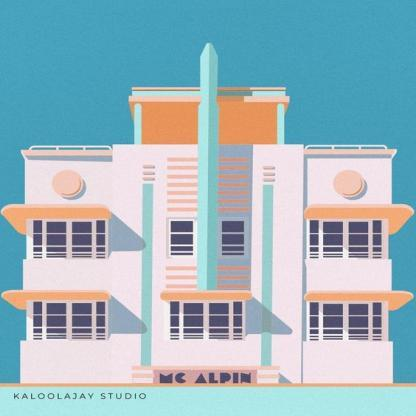Balcony: (29, 145, 389, 165)
Building Outline: (0, 41, 415, 385)
Deco: (158, 372, 252, 384)
Facade: (0, 41, 415, 384)
Molding: (218, 158, 250, 211), (167, 158, 198, 211), (165, 266, 197, 290), (218, 266, 250, 289)
Pillar: (197, 42, 219, 290), (260, 185, 274, 366), (141, 183, 153, 366), (134, 103, 142, 145), (277, 103, 284, 145)
Window: (309, 220, 381, 259), (170, 302, 243, 340), (33, 301, 105, 339), (309, 303, 381, 341), (33, 221, 105, 258), (170, 221, 193, 256), (221, 221, 244, 256)
